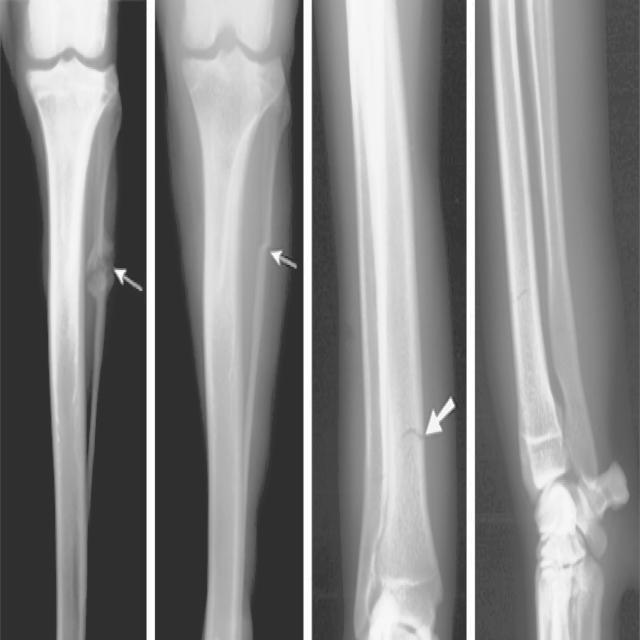HairLine Fracture: (86, 234, 116, 290), (403, 416, 422, 450), (258, 237, 278, 255)
